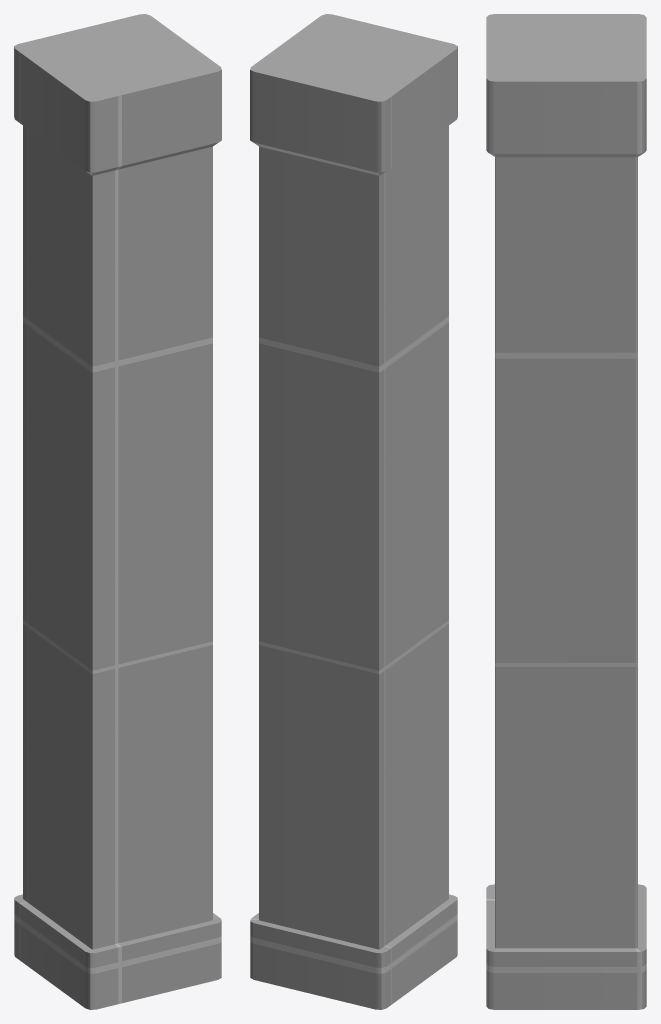
File: proto_column_01.fbx
3 views of the same model, side by side, from view 1: azimuth 30°, elevation 25°; view 2: azimuth 150°, elevation 25°; view 3: azimuth 270°, elevation 25° (orthographic). The views are drawn at different scales.
Parts seen in each view (by area): view 1: proto_column_01; view 2: proto_column_01; view 3: proto_column_01.
Boxes of the visible parts, x1,y1,x2,y2 form: proto_column_01: (14,14,221,1009); proto_column_01: (250,14,457,1009); proto_column_01: (486,14,646,1009).
Size of the model in its own units: 50 by 320 by 50.
